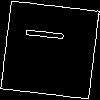I: (25, 25, 74, 45)
